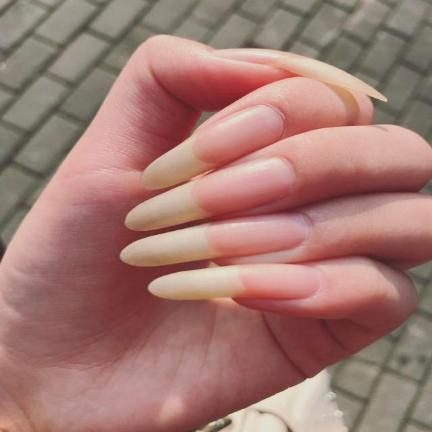Nail: (124, 157, 294, 231), (140, 105, 283, 190), (120, 212, 309, 266), (211, 48, 387, 102), (147, 262, 322, 300)
